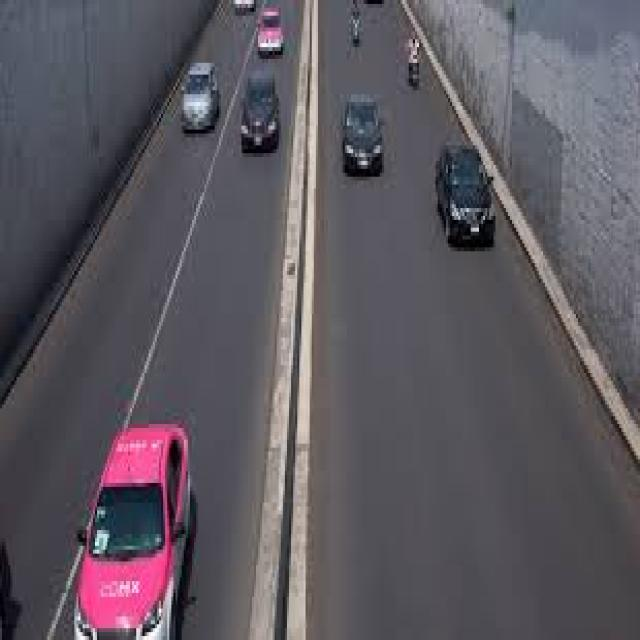CMT: (438, 146, 496, 253)
MOTORCYCLE: (408, 45, 422, 93)
